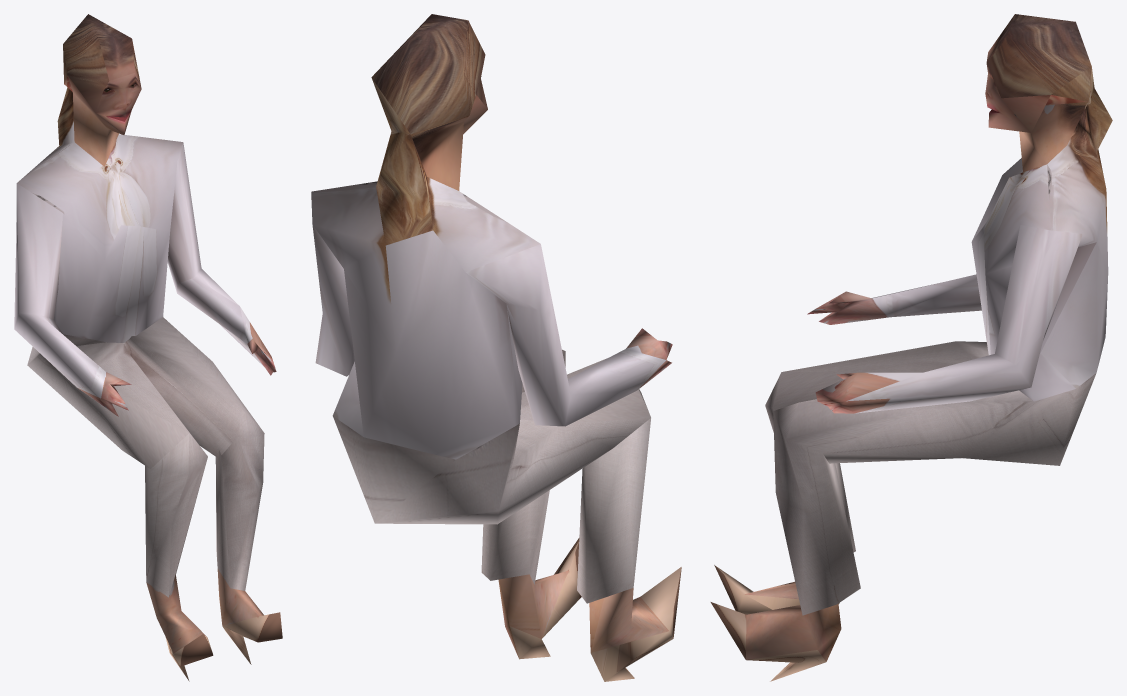
File: ClaudiaFar.fbx
3 renders of one model, left to right at view 1: azimuth 30°, elevation 25°; view 2: azimuth 150°, elevation 25°; view 3: azimuth 270°, elevation 25°, orthographic. The views are drawn at different scales.
Visible parts, largest first — view 1: rp_claudia_rigged_002_geo.001; view 2: rp_claudia_rigged_002_geo.001; view 3: rp_claudia_rigged_002_geo.001.
Part boxes in pixels (bbox=[...]): rp_claudia_rigged_002_geo.001: bbox=[14, 14, 282, 681]; rp_claudia_rigged_002_geo.001: bbox=[311, 14, 681, 681]; rp_claudia_rigged_002_geo.001: bbox=[710, 14, 1112, 681].
Bounding box in the file's own units: 46.58 × 135 × 76.57.
1 material, 1 textured.
